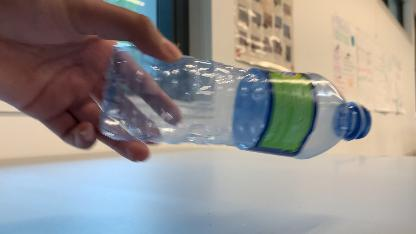Plastic Bottle: (74, 52, 372, 166)
